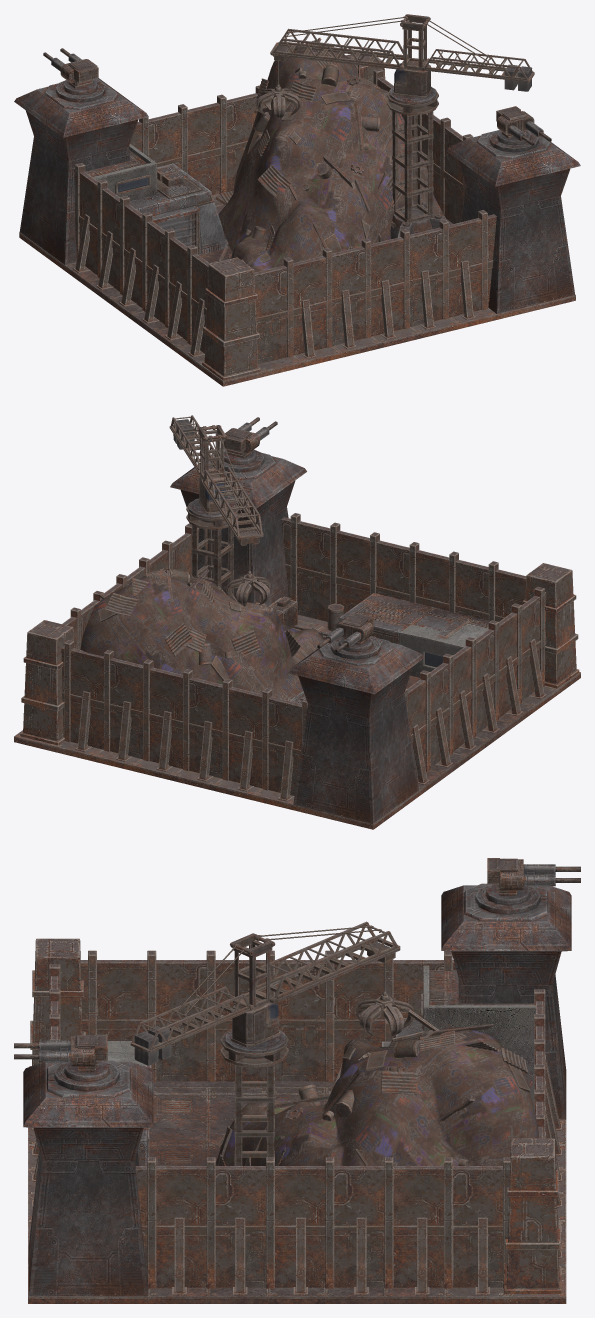
File: Scrapyard.fbx
3 views of the same model, one above another, from view 1: azimuth 30°, elevation 25°; view 2: azimuth 150°, elevation 25°; view 3: azimuth 270°, elevation 25° (orthographic). The views are drawn at different scales.
Parts seen in each view (by area): view 1: Scrapyard_Base, Scrapyard_Turret_02, Scrapyard_Turret_01; view 2: Scrapyard_Base, Scrapyard_Turret_02, Scrapyard_Turret_01; view 3: Scrapyard_Base, Scrapyard_Turret_01, Scrapyard_Turret_02.
Boxes of the visible parts, x1=… form: Scrapyard_Base: x1=14, y1=14, x2=580, y2=386; Scrapyard_Turret_02: x1=43, y1=48, x2=98, y2=95; Scrapyard_Turret_01: x1=496, y1=106, x2=551, y2=145; Scrapyard_Base: x1=14, y1=415, x2=580, y2=829; Scrapyard_Turret_02: x1=317, y1=612, x2=373, y2=652; Scrapyard_Turret_01: x1=224, y1=417, x2=277, y2=464; Scrapyard_Base: x1=23, y1=883, x2=571, y2=1303; Scrapyard_Turret_01: x1=14, y1=1034, x2=109, y2=1081; Scrapyard_Turret_02: x1=485, y1=858, x2=580, y2=904.
Bounding box in the file's own units: 1839 × 1198 × 1896.
